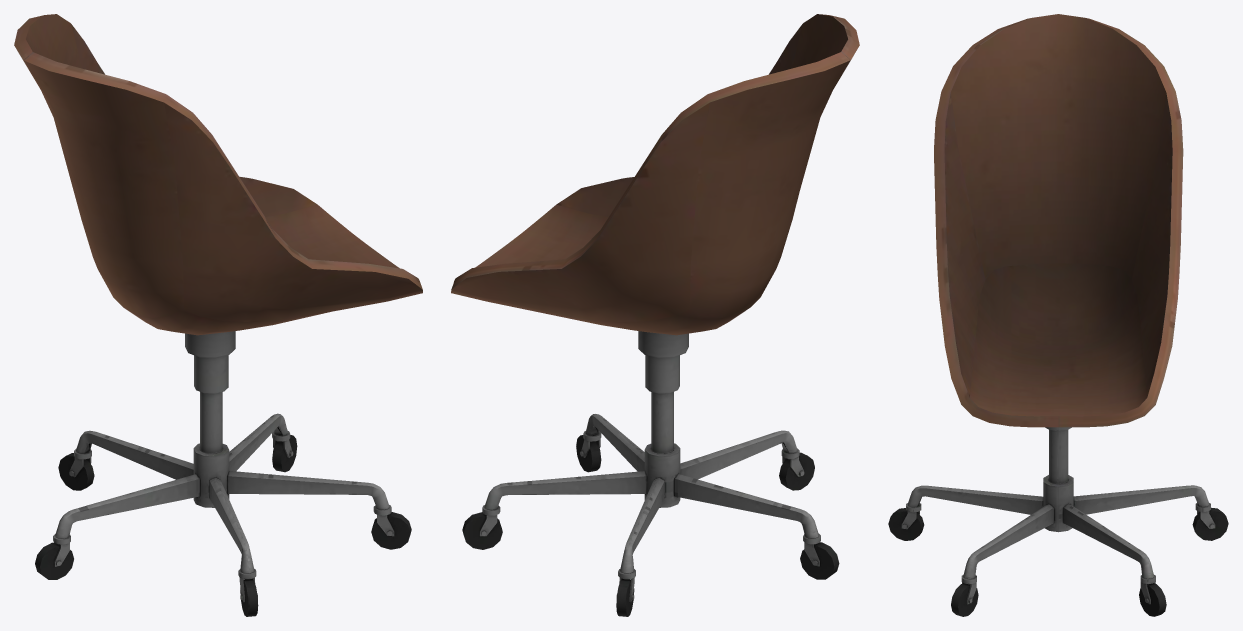
The picture shows the model from 3 angles, left to right: view 1: azimuth 30°, elevation 25°; view 2: azimuth 150°, elevation 25°; view 3: azimuth 270°, elevation 25°; orthographic projection. The views are drawn at different scales.
Visible parts, largest first — view 1: body0_model0_lod0_mesh0; view 2: body0_model0_lod0_mesh0; view 3: body0_model0_lod0_mesh0.
Boxes of the visible parts, x1,y1,x2,y2 form: body0_model0_lod0_mesh0: (14,14,422,616); body0_model0_lod0_mesh0: (451,14,859,616); body0_model0_lod0_mesh0: (888,14,1228,616).
Bounding box in the file's own units: 34.03 × 48.34 × 31.78.
Materials: 1 (1 with a texture image).
